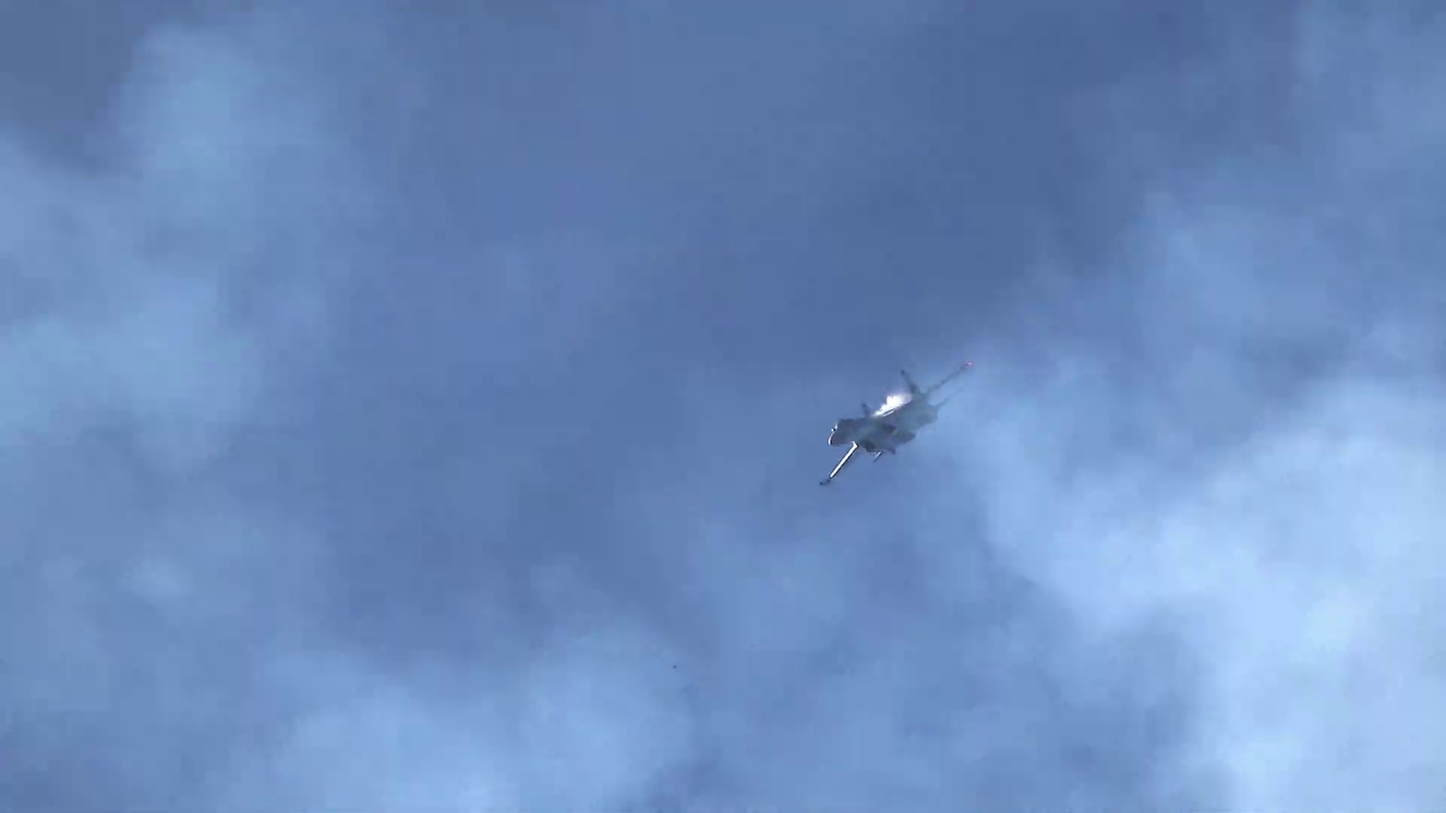Su35: (821, 362, 972, 486)
